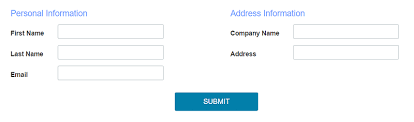button: (165, 87, 270, 117)
